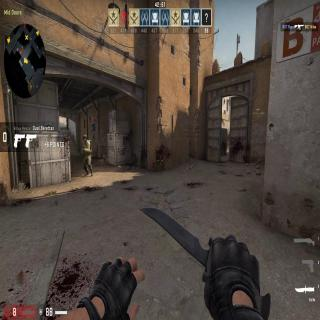CT-Body: (80, 133, 94, 177)
CT-Head: (82, 134, 87, 142)
